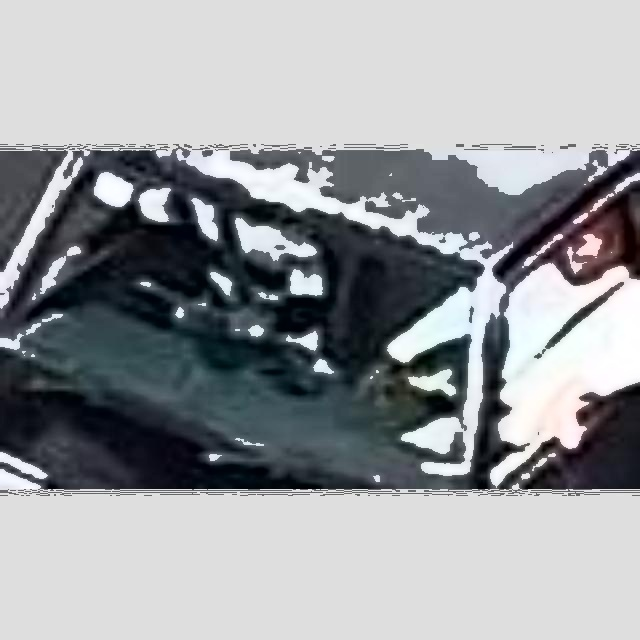pakai: (135, 187, 323, 349), (416, 260, 614, 406)
